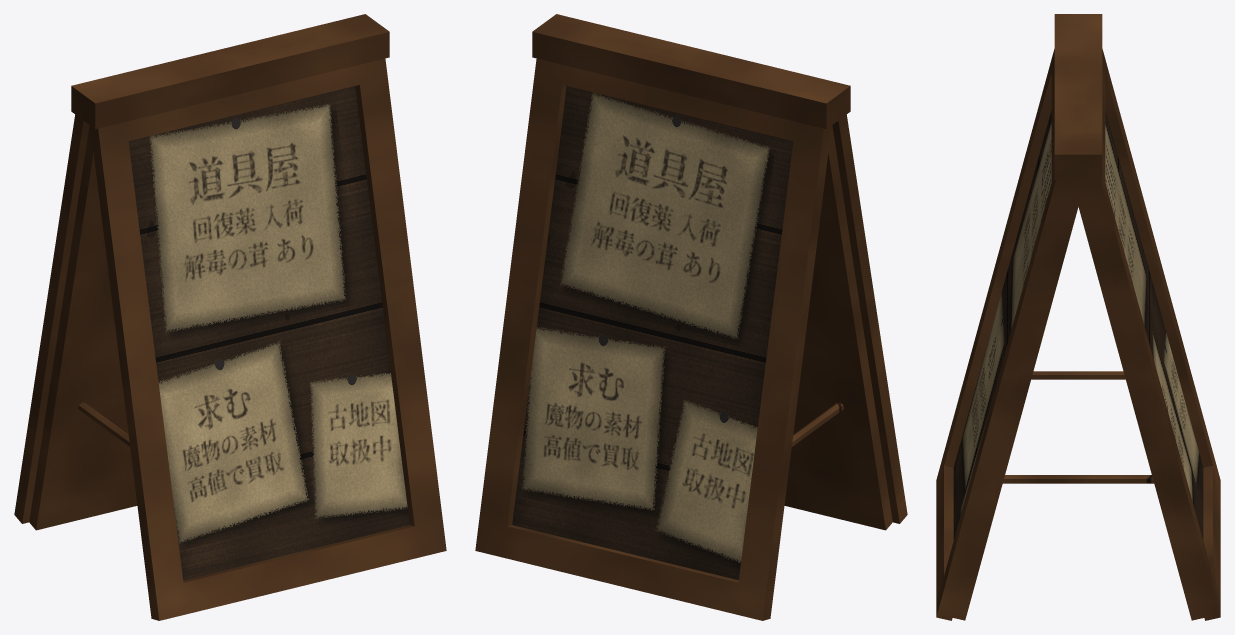
Rendered from ShopBoard.gltf.
The picture shows the model from 3 angles, left to right: view 1: azimuth 30°, elevation 25°; view 2: azimuth 150°, elevation 25°; view 3: azimuth 270°, elevation 25°; orthographic projection. The views are drawn at different scales.
Visible parts, largest first — view 1: ShopBoard; view 2: ShopBoard; view 3: ShopBoard.
Part boxes in pixels (bbox=[...]): ShopBoard: bbox=[14, 14, 446, 620]; ShopBoard: bbox=[475, 14, 907, 620]; ShopBoard: bbox=[936, 14, 1220, 620].
Size of the model in its own units: 0.84 by 1.31 by 0.7171.
2 materials, 2 textured.
